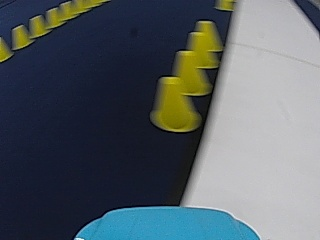cone: (150, 76, 197, 132), (171, 49, 209, 96), (186, 20, 222, 67), (11, 25, 30, 49), (29, 15, 46, 37), (1, 37, 12, 61)
